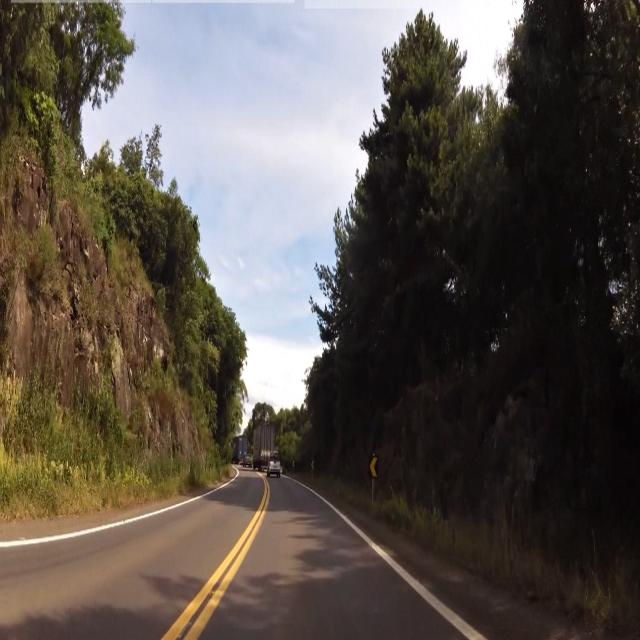Del: (370, 452, 378, 478)
